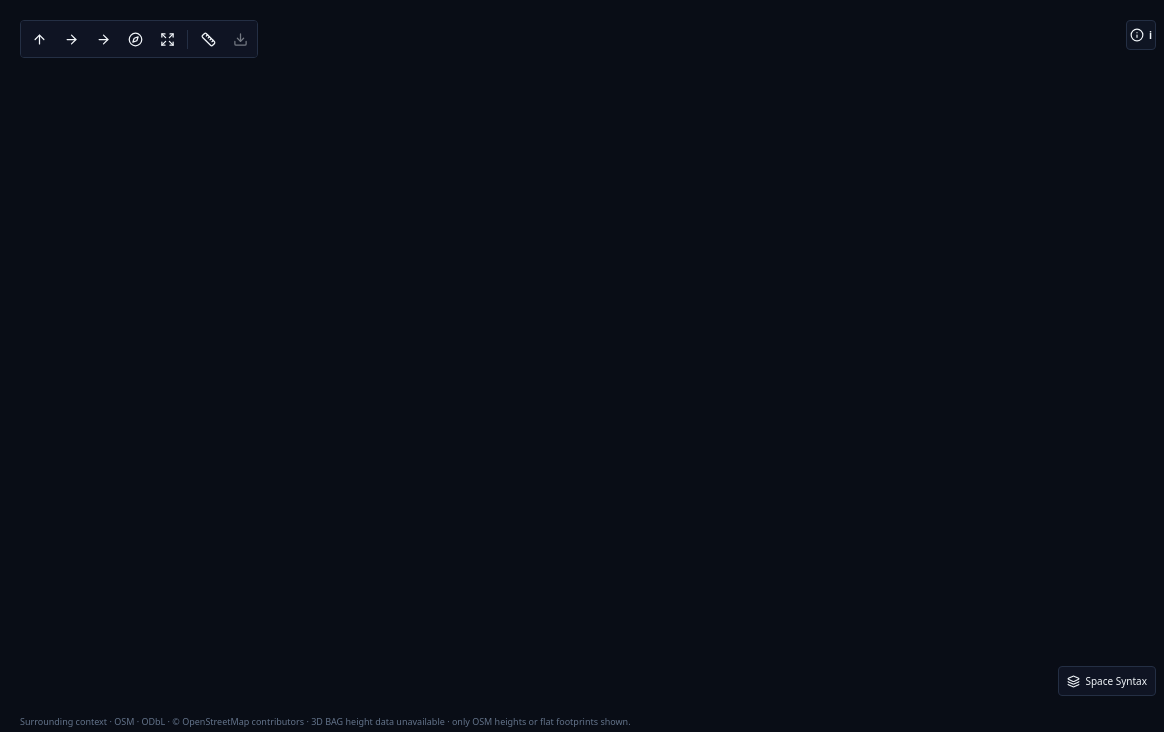
Viewport3D measurements › measures horizontal distance, elevation difference, and slant between two schematic surfaces
Click the button named "Measure 3D distance and height".
click(208, 39)  # box 193,24 -> 223,54
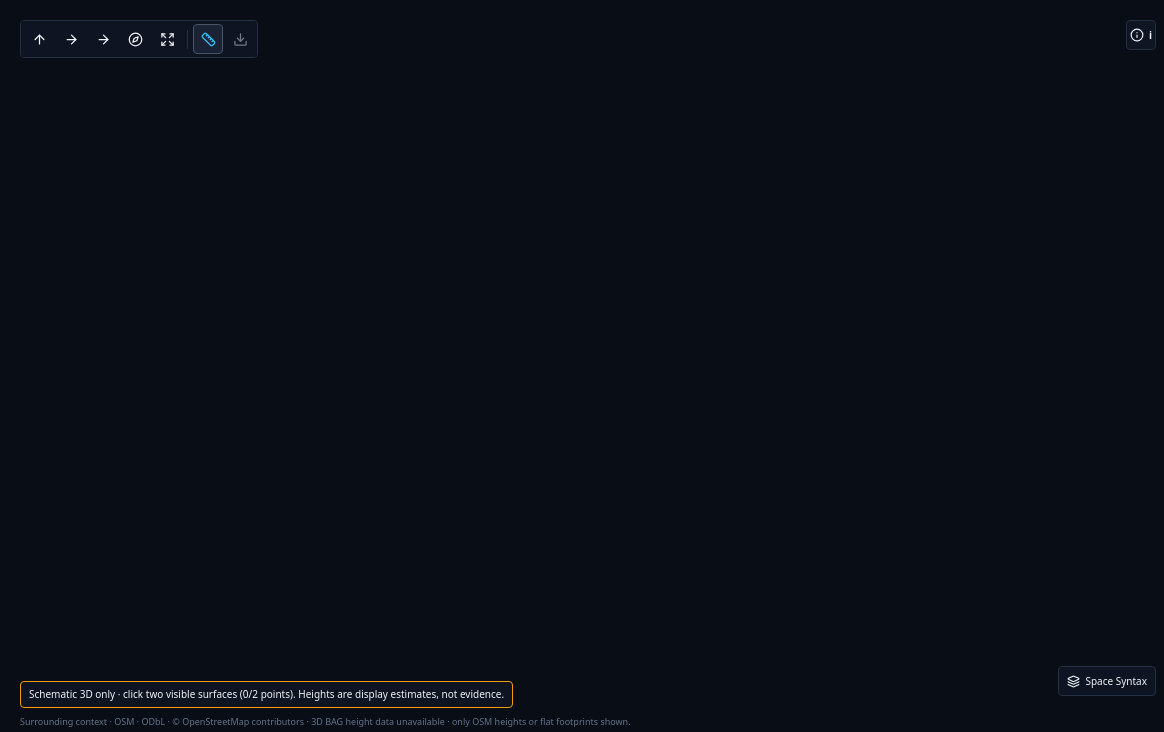
Check: the message named "3D measurement status" shows "click two visible surfaces (0/2 points)", box 29,687 -> 504,701
Check: the message named "3D measurement status" shows "not evidence", box 29,687 -> 504,701
Press the mouse on the drawing at [162, 87], box 12,12 -> 312,162
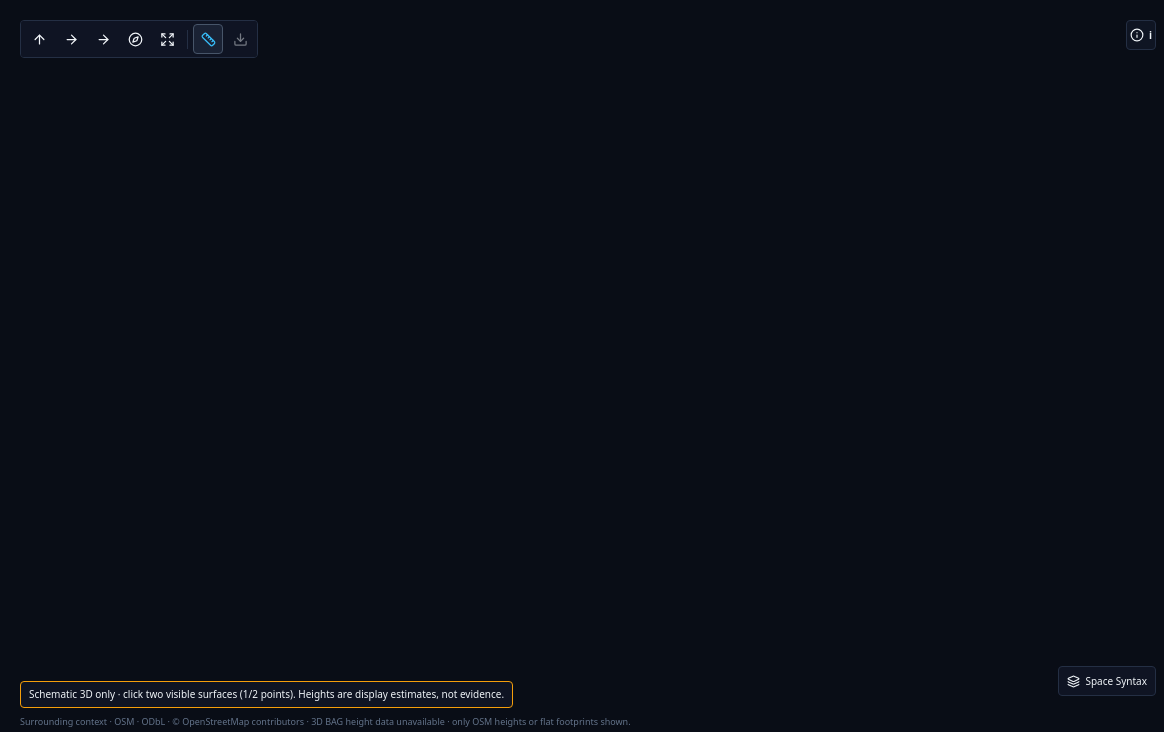
Press the mouse on the drawing at [162, 87], box 12,12 -> 312,162
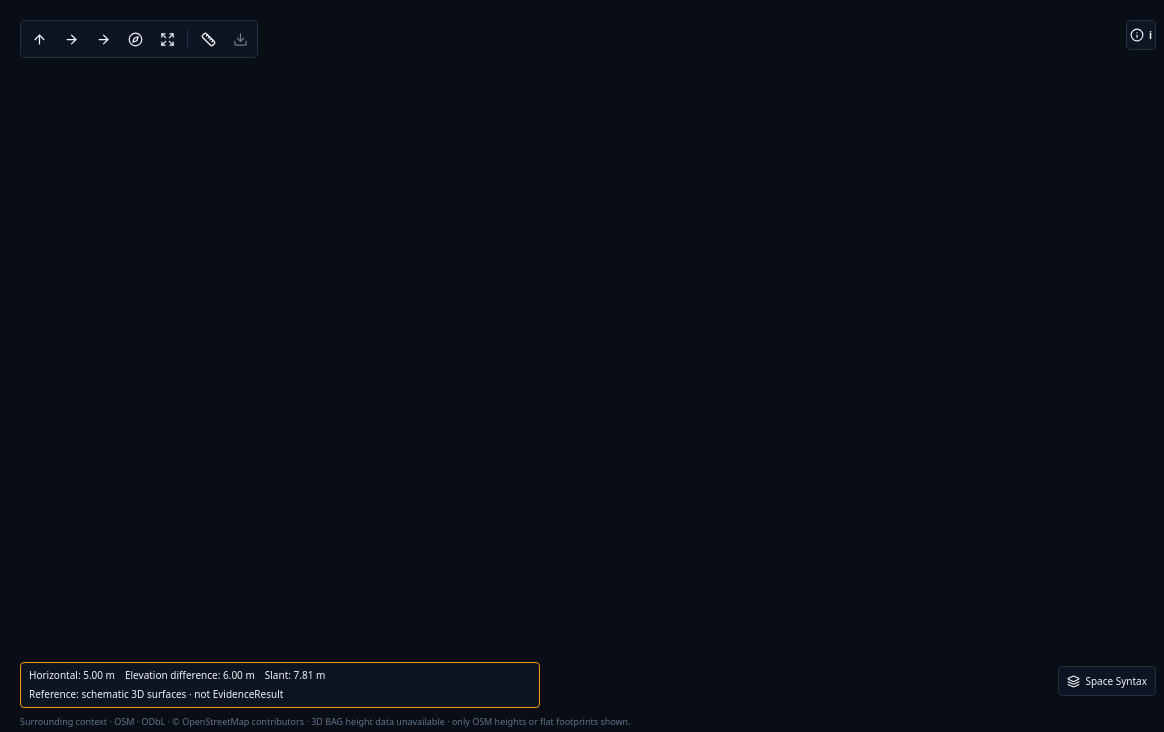
Check: the message named "3D measurement status" shows "Horizontal: 5.00 m", box 29,668 -> 115,682
Check: the message named "3D measurement status" shows "Elevation difference: 6.00 m", box 125,668 -> 255,682
Check: the message named "3D measurement status" shows "Slant: 7.81 m", box 265,668 -> 325,682
